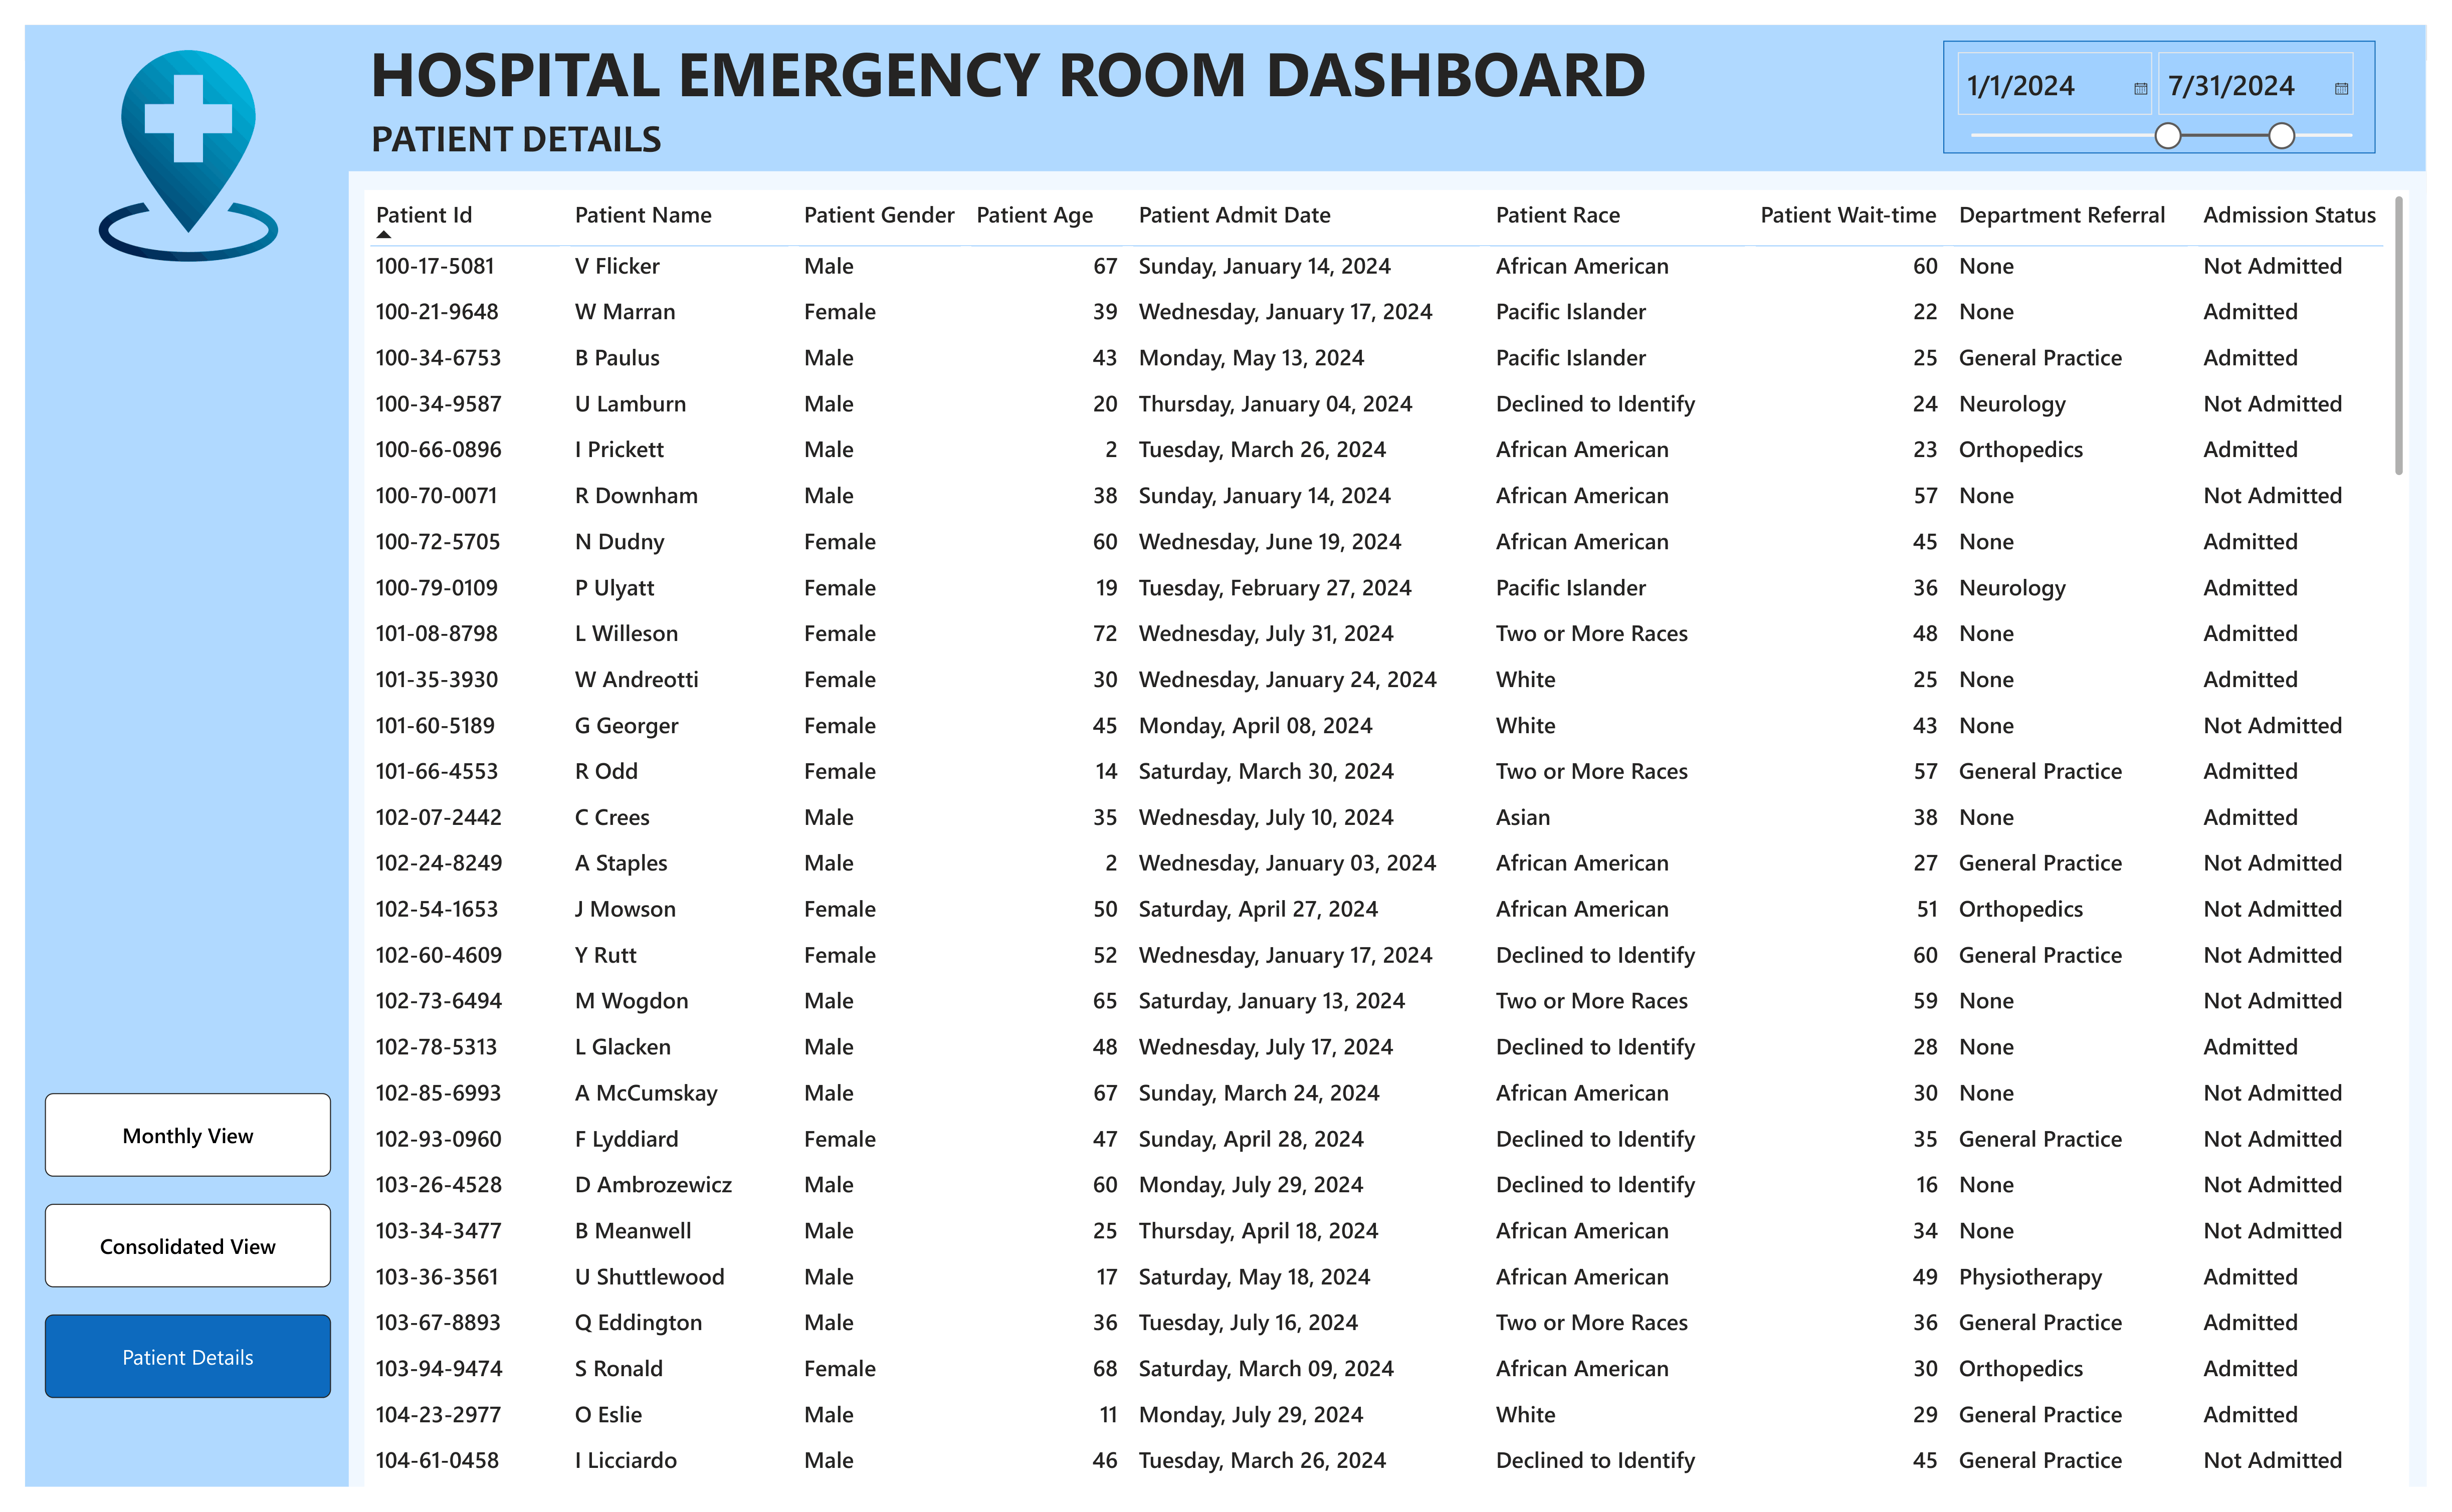

Layout of this report page (visuals, bound fields, positions):
{"tool":"powerbi","page":{"name":"Patient Details","canvas":[2300,1400],"ordinal":2},"visuals":[{"type":"shape","box":[0,0,310,1400.3],"z":0},{"type":"shape","box":[310.4,0,1988.9,140.3],"z":1000},{"type":"textbox","box":[310.4,0,1262.3,89],"z":2000},{"type":"textbox","box":[326.4,79.8,425.5,58],"z":3000},{"type":"slicer","fields":{"Values":["Date Table.Date"]},"box":[1837.5,14.5,413.4,108.8],"z":4000},{"type":"image","box":[33.8,24.2,244.2,203.1],"z":39000},{"type":"tableEx","fields":{"Values":["Hospital ER_Data.Patient Id","Hospital ER_Data.Patient Full Name","Hospital ER_Data.Patient Gender","Sum(Hospital ER_Data.Patient Age)","Hospital ER_Data.Patient Admit Date","Hospital ER_Data.Patient Race","Sum(Hospital ER_Data.Patient Waittime)","Hospital ER_Data.Department Referral","Hospital ER_Data.Admission Status"]},"box":[325,157.5,1957.5,1242.5],"z":39001},{"type":"pageNavigator","box":[19.3,1022.7,273.2,292.5],"z":39002}]}

Visuals, with their boxes on the page's 2300x1400 design canvas (x1, y1, x2, y2). These are canvas units, not pixel positions in the 2452x1512 screenshot, which may show the page scaled, cropped or inside an application window:
shape: 0, 0, 310, 1400
shape: 310, 0, 2299, 140
textbox: 310, 0, 1573, 89
textbox: 326, 80, 752, 138
slicer - Date Table.Date: 1838, 14, 2251, 123
image: 34, 24, 278, 227
tableEx - Hospital ER_Data.Patient Id x Hospital ER_Data.Patient Full Name: 325, 158, 2282, 1400
pageNavigator: 19, 1023, 292, 1315
